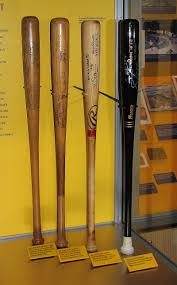baseball bat: (112, 17, 141, 256), (18, 17, 47, 246), (47, 17, 72, 251), (78, 18, 100, 253)
